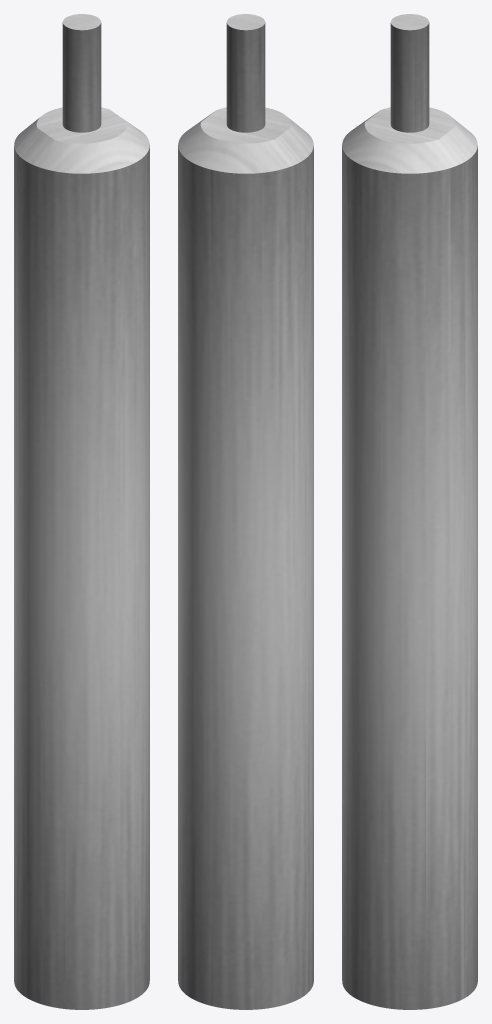
File: pole_kinect.dae
3 renders of one model, left to right at view 1: azimuth 30°, elevation 25°; view 2: azimuth 150°, elevation 25°; view 3: azimuth 330°, elevation 25°, orthographic.
Parts seen in each view (by area): view 1: kinect_poll; view 2: kinect_poll; view 3: kinect_poll.
Part boxes in pixels (x1=…): kinect_poll: x1=14, y1=14, x2=149, y2=1009; kinect_poll: x1=178, y1=14, x2=313, y2=1009; kinect_poll: x1=342, y1=14, x2=477, y2=1009.
Bounding box in the file's own units: 0.012 × 0.012 × 0.0936.
Materials: 1 (1 with a texture image).
